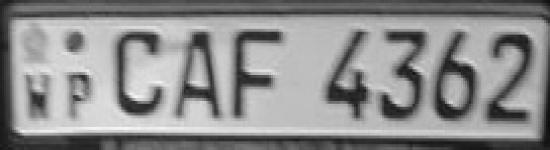2: (484, 24, 536, 130)
3: (376, 20, 431, 124)
4: (319, 18, 376, 125)
6: (432, 21, 480, 124)
A: (168, 26, 225, 124)
C: (110, 25, 166, 119)
F: (229, 22, 285, 124)
P: (60, 69, 100, 121)
W: (21, 66, 53, 125)
